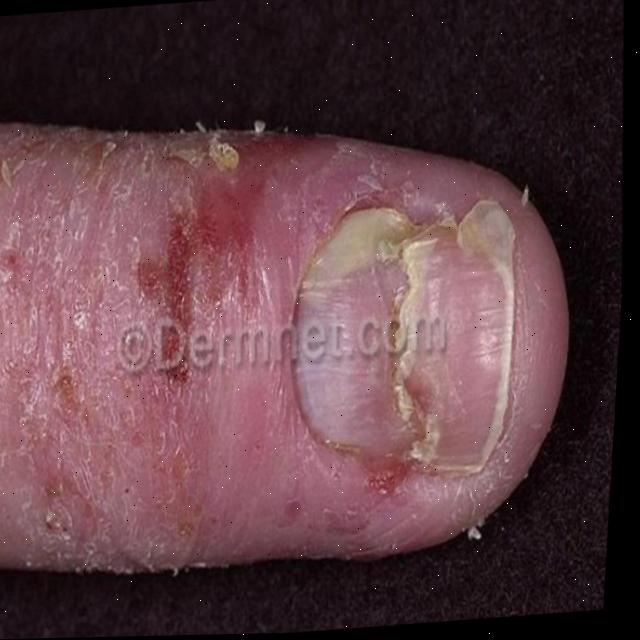Eczema: (0, 79, 519, 579)
